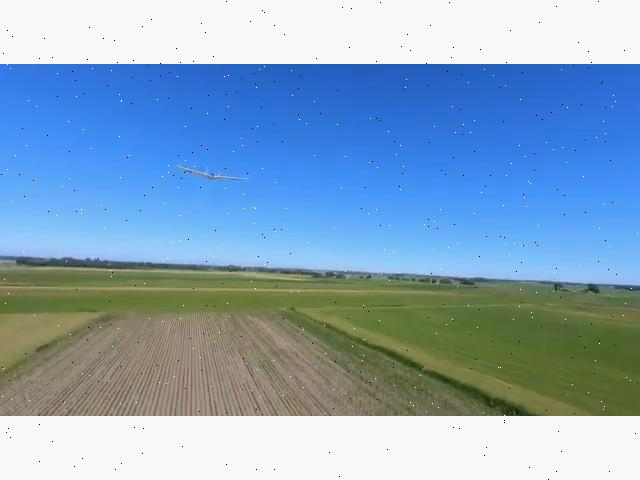Anti-Drone: (154, 140, 262, 203)
